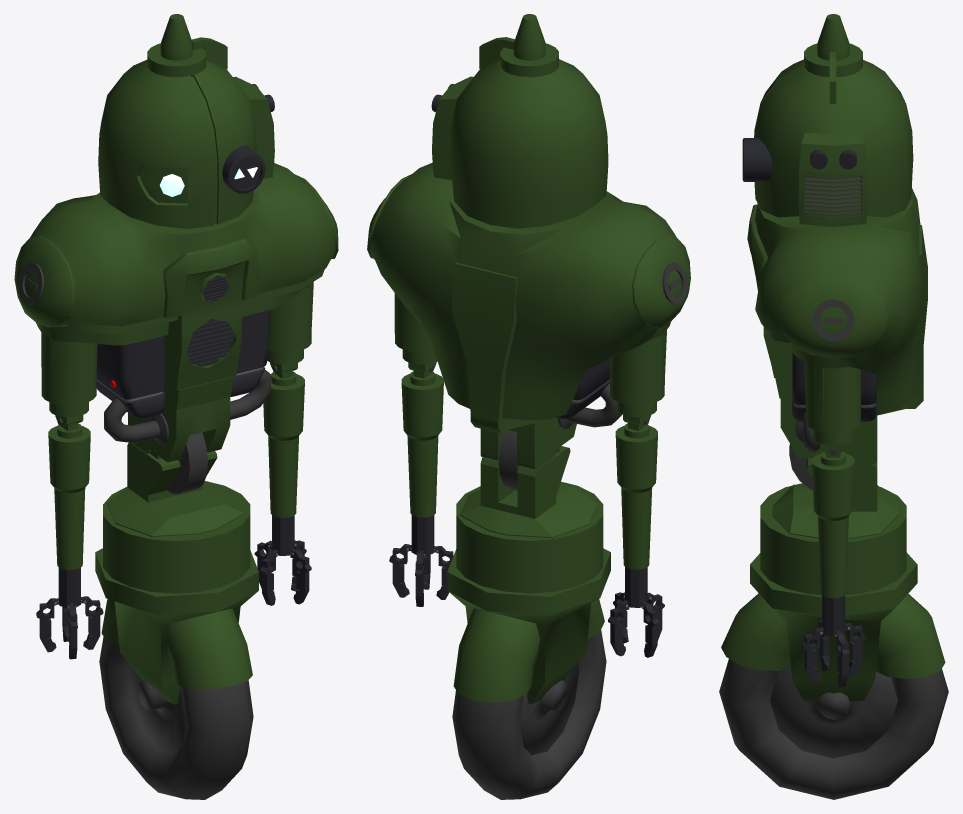
File: Poison_Droid.fbx
3 views of the same model, side by side, from view 1: azimuth 30°, elevation 25°; view 2: azimuth 150°, elevation 25°; view 3: azimuth 270°, elevation 25° (orthographic).
Visible parts, largest first — view 1: poison_droid_govde, poison_droid_kafa, poison_droid_alt_govde, poison_droid_alt_tekerlek.001, poison_droid_alt_tekerlek, poison_droid_kollar.015, poison_droid_kollar.002, poison_droid_kollar.026, poison_droid_kollar.028, poison_droid_kollar.019, poison_droid_kollar.016; view 2: poison_droid_govde, poison_droid_kafa, poison_droid_alt_govde, poison_droid_alt_tekerlek, poison_droid_alt_tekerlek.001, poison_droid_kollar.015, poison_droid_kollar.002, poison_droid_kollar.026, poison_droid_kollar.016, poison_droid_kollar.020, poison_droid_kollar.028, poison_droid_kollar.019; view 3: poison_droid_govde, poison_droid_kafa, poison_droid_alt_tekerlek.001, poison_droid_alt_tekerlek, poison_droid_alt_govde, poison_droid_kollar.015, poison_droid_kollar.002, poison_droid_kollar.026, poison_droid_kollar.019, poison_droid_kollar.020, poison_droid_kollar.016.
Part boxes in pixels (bbox=[...]): poison_droid_govde: bbox=[14, 163, 338, 493]; poison_droid_kafa: bbox=[98, 14, 274, 229]; poison_droid_alt_govde: bbox=[103, 442, 250, 593]; poison_droid_alt_tekerlek.001: bbox=[99, 637, 253, 799]; poison_droid_alt_tekerlek: bbox=[95, 548, 258, 704]; poison_droid_kollar.015: bbox=[48, 370, 304, 569]; poison_droid_kollar.002: bbox=[41, 282, 313, 426]; poison_droid_kollar.026: bbox=[58, 515, 294, 608]; poison_droid_kollar.028: bbox=[82, 550, 277, 649]; poison_droid_kollar.019: bbox=[68, 549, 311, 659]; poison_droid_kollar.016: bbox=[36, 540, 306, 652]; poison_droid_govde: bbox=[367, 162, 690, 490]; poison_droid_kafa: bbox=[431, 14, 608, 228]; poison_droid_alt_govde: bbox=[456, 446, 603, 593]; poison_droid_alt_tekerlek: bbox=[447, 548, 610, 704]; poison_droid_alt_tekerlek.001: bbox=[452, 630, 606, 799]; poison_droid_kollar.015: bbox=[401, 370, 657, 569]; poison_droid_kollar.002: bbox=[394, 293, 667, 426]; poison_droid_kollar.026: bbox=[411, 515, 647, 607]; poison_droid_kollar.016: bbox=[389, 544, 659, 657]; poison_droid_kollar.020: bbox=[415, 552, 628, 656]; poison_droid_kollar.028: bbox=[435, 546, 629, 643]; poison_droid_kollar.019: bbox=[423, 554, 664, 640]; poison_droid_govde: bbox=[747, 188, 927, 490]; poison_droid_kafa: bbox=[742, 14, 913, 226]; poison_droid_alt_tekerlek.001: bbox=[719, 659, 948, 799]; poison_droid_alt_tekerlek: bbox=[721, 552, 945, 701]; poison_droid_alt_govde: bbox=[760, 458, 906, 594]; poison_droid_kollar.015: bbox=[812, 451, 854, 598]; poison_droid_kollar.002: bbox=[804, 362, 860, 455]; poison_droid_kollar.026: bbox=[822, 595, 845, 636]; poison_droid_kollar.019: bbox=[801, 628, 823, 682]; poison_droid_kollar.020: bbox=[845, 622, 865, 676]; poison_droid_kollar.016: bbox=[835, 632, 849, 687].
Size of the model in its own units: 79 by 193 by 51.55.
